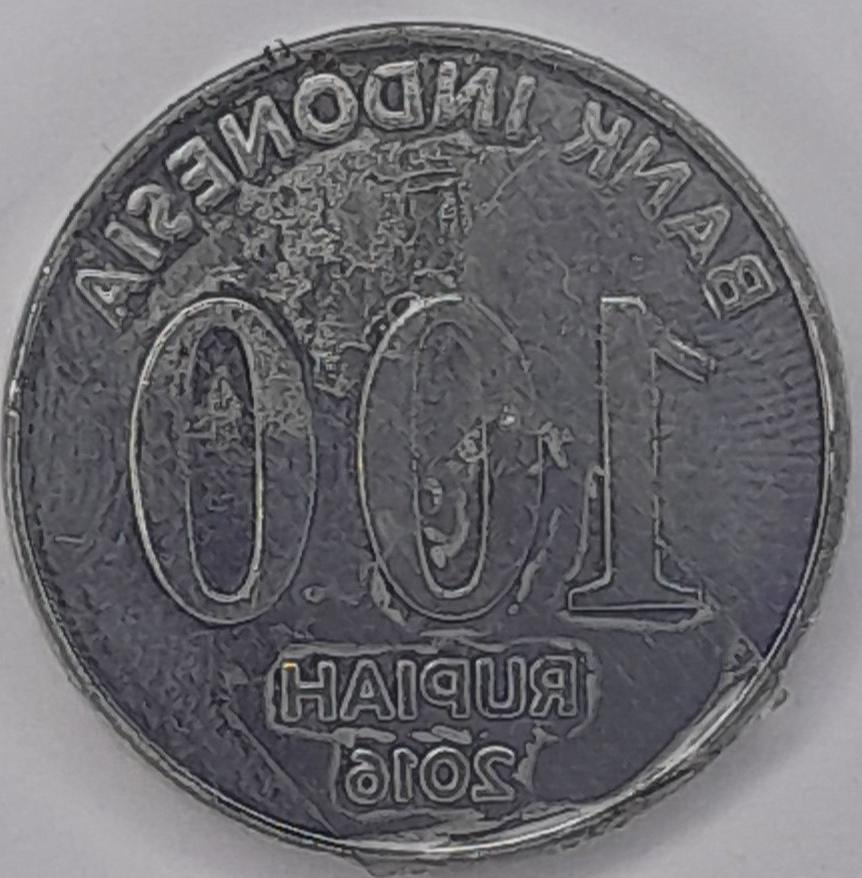coin_100_e2016: (0, 16, 855, 874)
